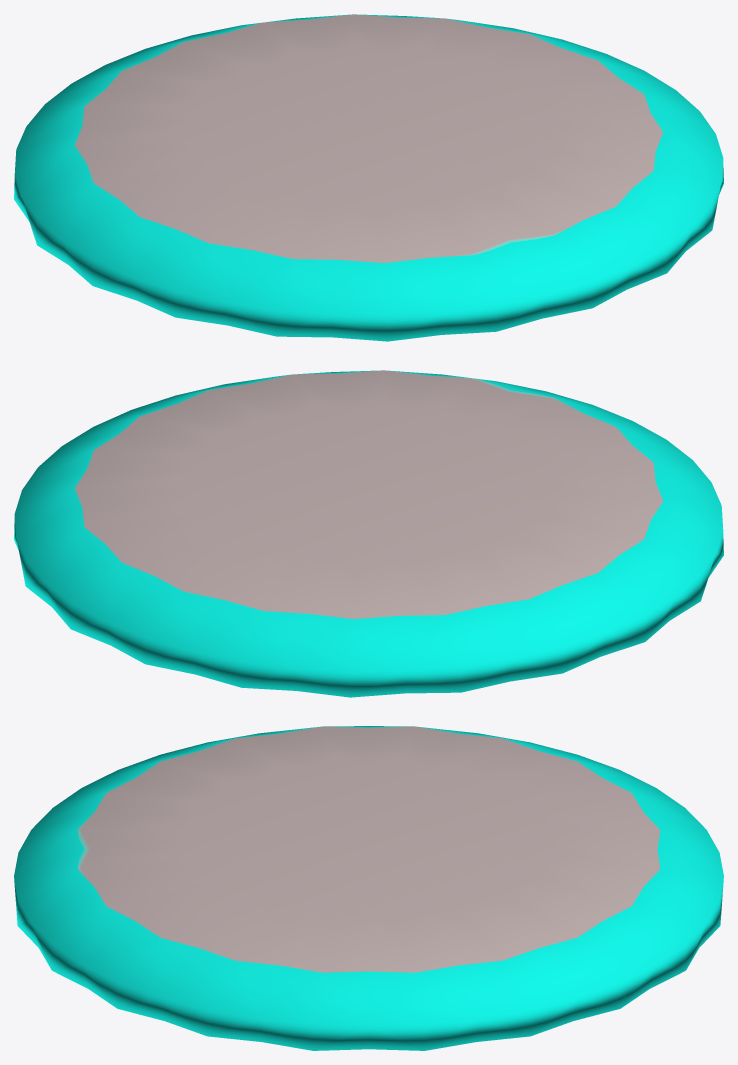
Rendered from pickup.fbx.
3 renders of one model, top to bottom at view 1: azimuth 30°, elevation 25°; view 2: azimuth 150°, elevation 25°; view 3: azimuth 270°, elevation 25°, orthographic.
Visible parts, largest first — view 1: pCylinder1; view 2: pCylinder1; view 3: pCylinder1.
Part boxes in pixels (<box>): pCylinder1: <box>14,14,723,341</box>; pCylinder1: <box>14,370,723,697</box>; pCylinder1: <box>14,726,723,1050</box>.
Size of the model in its own units: 1.75 by 0.1917 by 1.75.
Materials: 1 (1 with a texture image).
